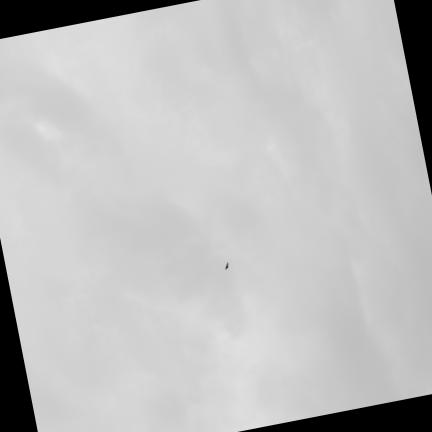Shahed: (225, 261, 228, 268)
